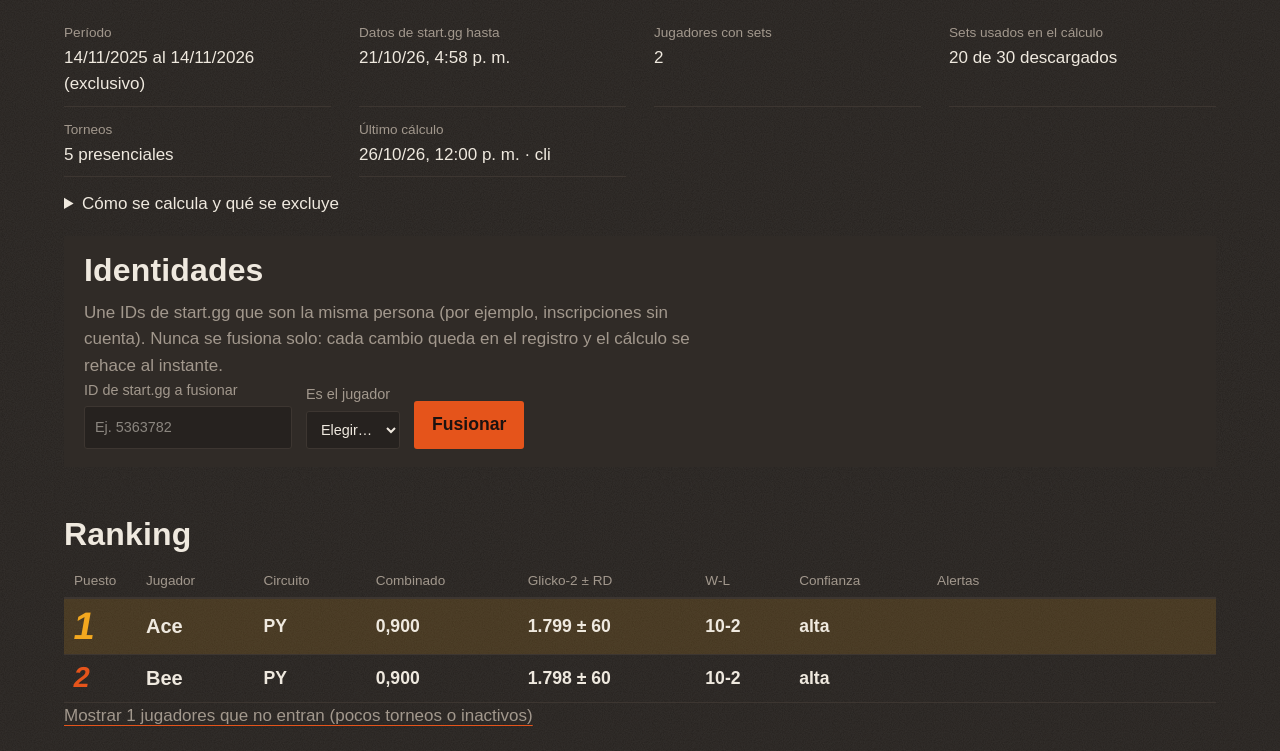
seeding board › shows rankings without manual moves and hides low-activity players
This screenshot has width=1280, height=751.
(page scrolled)
Expected: the button "Cid" is not shown
Click the button "Mostrar 1 jugadores que no entran" at {"x": 298, "y": 716}, box [64, 703, 533, 729]
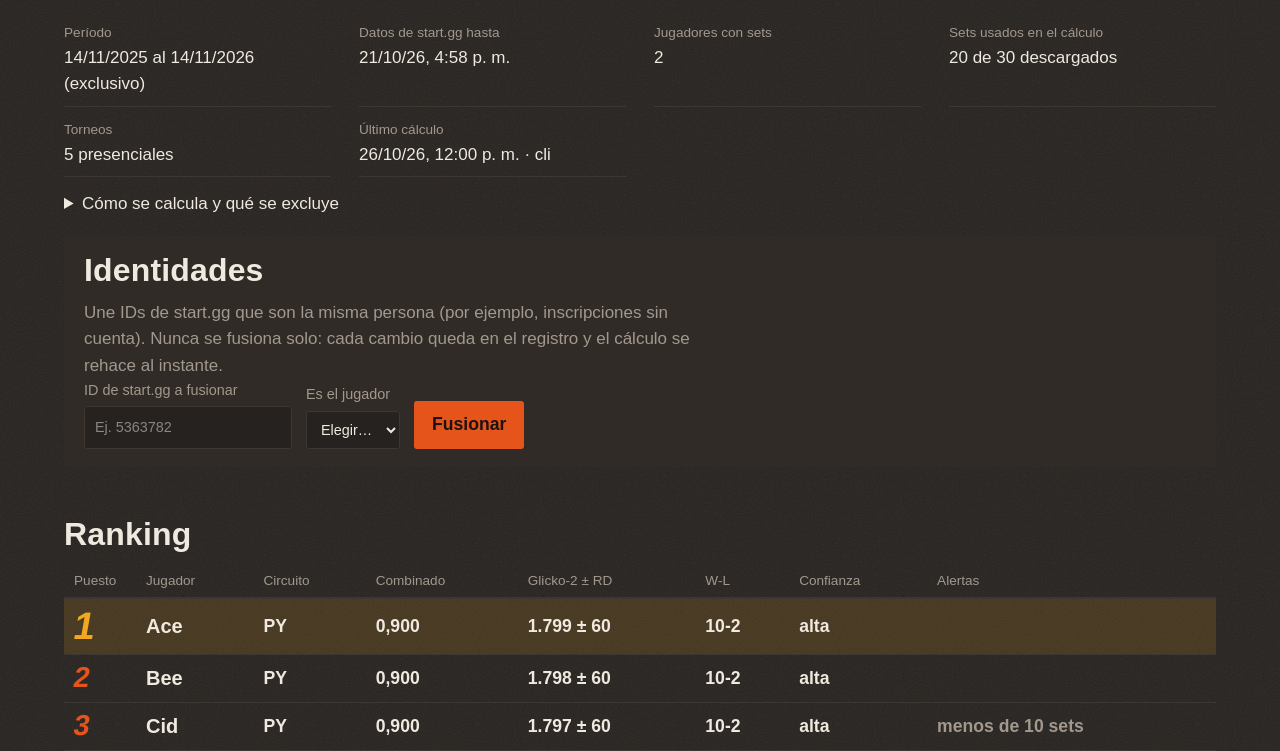
Expected: the button "Cid" is shown, [146, 711, 178, 742]
